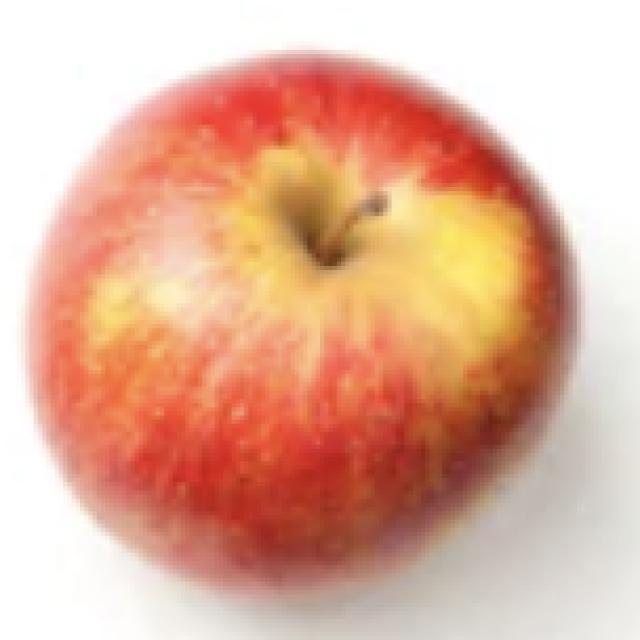Fresh Apple: (52, 65, 573, 565)
